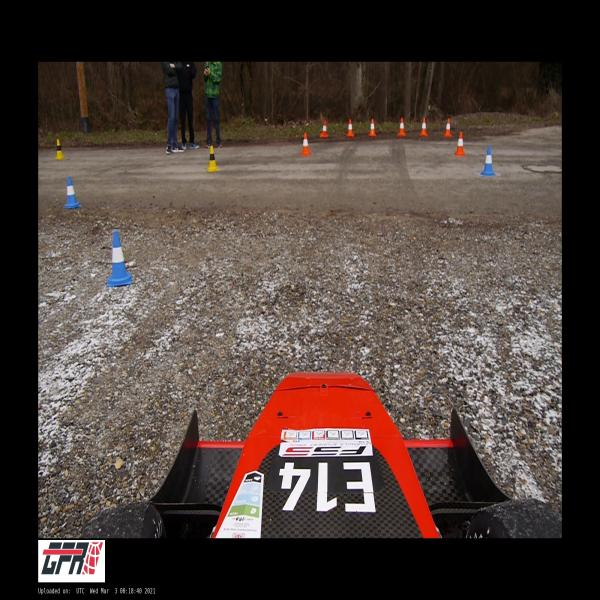blue_cone: (106, 232, 131, 286), (63, 177, 81, 209), (480, 146, 495, 176)
orange_cone: (454, 132, 465, 156), (300, 133, 311, 156), (443, 118, 452, 138), (419, 118, 428, 137), (320, 120, 329, 138), (398, 118, 406, 137), (369, 118, 376, 136), (347, 119, 354, 137)
yellow_cone: (206, 146, 218, 172), (54, 140, 65, 160)
